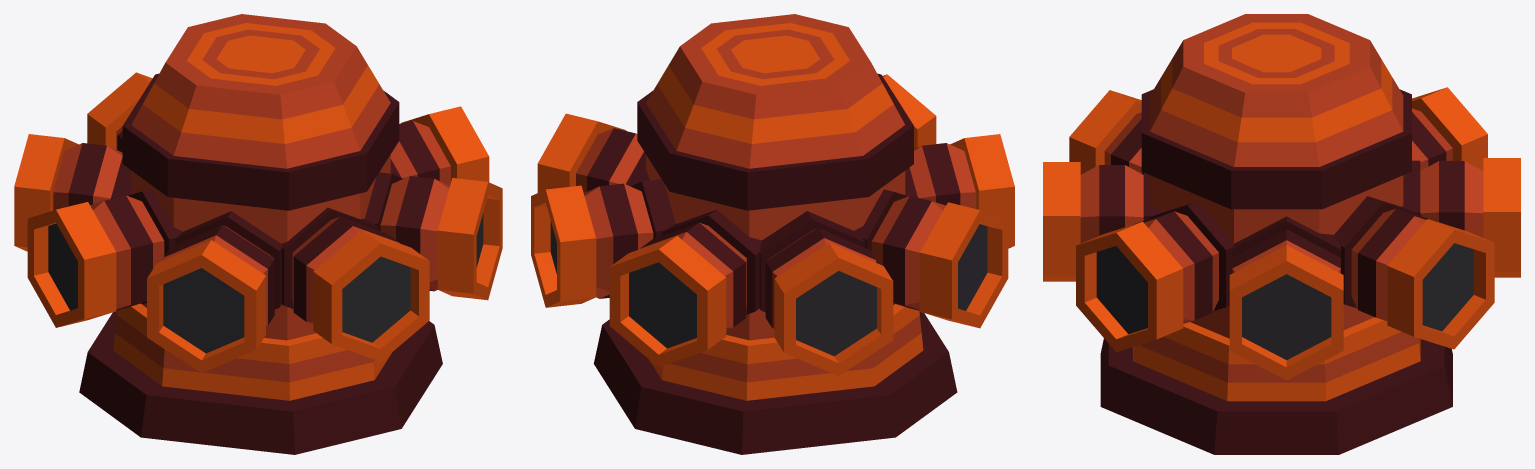
Rendered from torch.fbx.
The picture shows the model from 3 angles, left to right: view 1: azimuth 30°, elevation 25°; view 2: azimuth 150°, elevation 25°; view 3: azimuth 270°, elevation 25°; orthographic projection.
Visible parts, largest first — view 1: Cube.058, Cube.059, Cube.060; view 2: Cube.058, Cube.059, Cube.060; view 3: Cube.058, Cube.060, Cube.059.
Boxes of the visible parts, x1,y1,x2,y2 form: Cube.058: (79,14,442,454); Cube.059: (27,72,489,361); Cube.060: (14,134,502,373); Cube.058: (593,14,957,454); Cube.059: (537,74,1008,367); Cube.060: (531,134,1014,375); Cube.058: (1100,14,1452,454); Cube.060: (1069,87,1494,352); Cube.059: (1043,158,1520,380).
Size of the model in its own units: 187 by 142 by 187.
